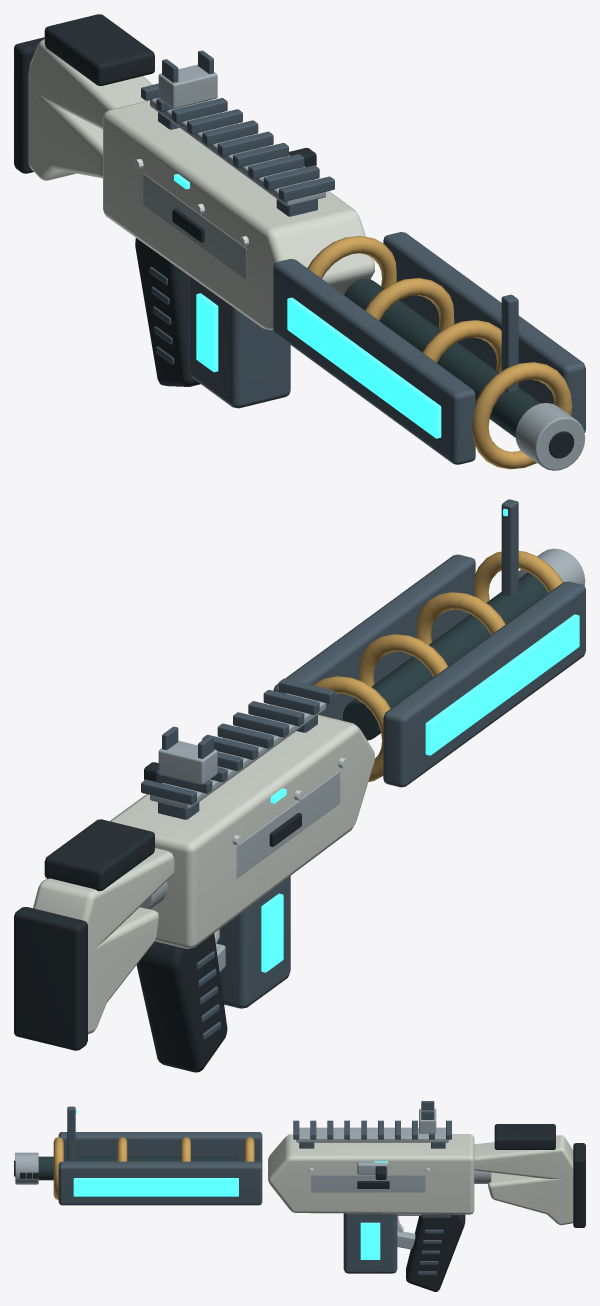
Rendered from weapon_10.glb.
3 renders of one model, top to bottom at view 1: azimuth 30°, elevation 25°; view 2: azimuth 150°, elevation 25°; view 3: azimuth 270°, elevation 25°, orthographic. The views are drawn at different scales.
Visible parts, largest first — view 1: receiver / Ceramic, receiver / Cerakote midnight, receiver / Copper, receiver / Titanium, receiver / Elastomer, magazine / Cerakote midnight, receiver / Phase glass, receiver / Optical glass, pistol_grip / Elastomer, magazine / Phase glass, pistol_grip / Cerakote midnight; view 2: receiver / Ceramic, receiver / Cerakote midnight, receiver / Elastomer, pistol_grip / Elastomer, receiver / Titanium, receiver / Copper, receiver / Phase glass, receiver / Optical glass, magazine / Cerakote midnight, magazine / Phase glass, pistol_grip / Cerakote midnight; view 3: receiver / Ceramic, receiver / Cerakote midnight, receiver / Titanium, receiver / Phase glass, receiver / Elastomer, pistol_grip / Elastomer, magazine / Cerakote midnight, receiver / Optical glass, receiver / Copper, magazine / Phase glass, pistol_grip / Cerakote midnight, charging_handle / Titanium.
Part boxes in pixels (x1=…): receiver / Ceramic: x1=28, y1=39, x2=374, y2=330; receiver / Cerakote midnight: x1=141, y1=50, x2=585, y2=464; receiver / Copper: x1=307, y1=236, x2=572, y2=469; receiver / Titanium: x1=143, y1=64, x2=585, y2=470; receiver / Elastomer: x1=14, y1=14, x2=574, y2=458; magazine / Cerakote midnight: x1=189, y1=276, x2=290, y2=408; receiver / Phase glass: x1=174, y1=157, x2=441, y2=438; receiver / Optical glass: x1=344, y1=278, x2=540, y2=437; pistol_grip / Elastomer: x1=135, y1=238, x2=200, y2=386; magazine / Phase glass: x1=196, y1=293, x2=218, y2=372; pistol_grip / Cerakote midnight: x1=149, y1=266, x2=174, y2=364; receiver / Ceramic: x1=33, y1=715, x2=374, y2=1034; receiver / Cerakote midnight: x1=141, y1=499, x2=585, y2=819; receiver / Elastomer: x1=14, y1=813, x2=301, y2=1050; pistol_grip / Elastomer: x1=136, y1=933, x2=227, y2=1072; receiver / Titanium: x1=140, y1=548, x2=585, y2=972; receiver / Copper: x1=313, y1=551, x2=563, y2=781; receiver / Phase glass: x1=270, y1=508, x2=579, y2=803; receiver / Optical glass: x1=343, y1=572, x2=548, y2=740; magazine / Cerakote midnight: x1=216, y1=876, x2=290, y2=1008; magazine / Phase glass: x1=261, y1=893, x2=283, y2=972; pistol_grip / Cerakote midnight: x1=196, y1=951, x2=220, y2=1040; receiver / Ceramic: x1=268, y1=1134, x2=573, y2=1225; receiver / Cerakote midnight: x1=58, y1=1101, x2=451, y2=1205; receiver / Titanium: x1=15, y1=1108, x2=491, y2=1249; receiver / Phase glass: x1=73, y1=1109, x2=387, y2=1196; receiver / Elastomer: x1=14, y1=1124, x2=585, y2=1227; pistol_grip / Elastomer: x1=406, y1=1214, x2=465, y2=1291; magazine / Cerakote midnight: x1=343, y1=1213, x2=397, y2=1273; receiver / Optical glass: x1=38, y1=1156, x2=236, y2=1180; receiver / Copper: x1=53, y1=1137, x2=254, y2=1199; magazine / Phase glass: x1=360, y1=1222, x2=380, y2=1259; pistol_grip / Cerakote midnight: x1=417, y1=1214, x2=450, y2=1275; charging_handle / Titanium: x1=357, y1=1161, x2=387, y2=1174.
Size of the model in its own units: 0.233 by 0.4711 by 1.35.
